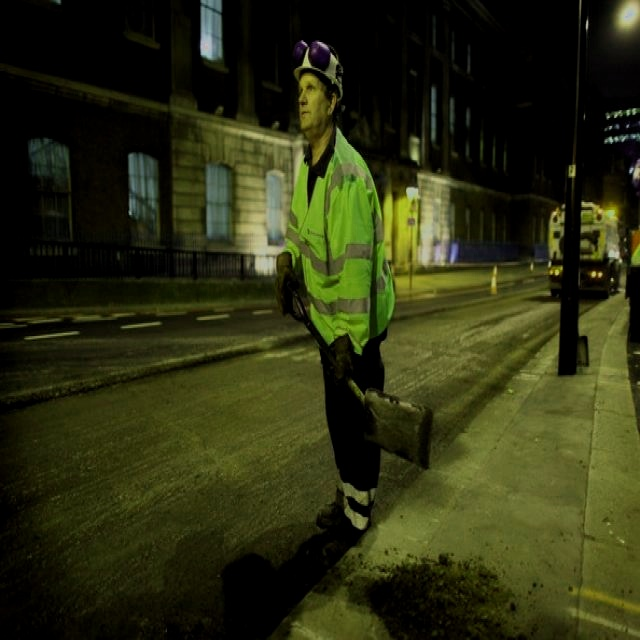Con_Casco: (295, 42, 341, 137)
Con_Chaleco: (293, 139, 395, 337)
